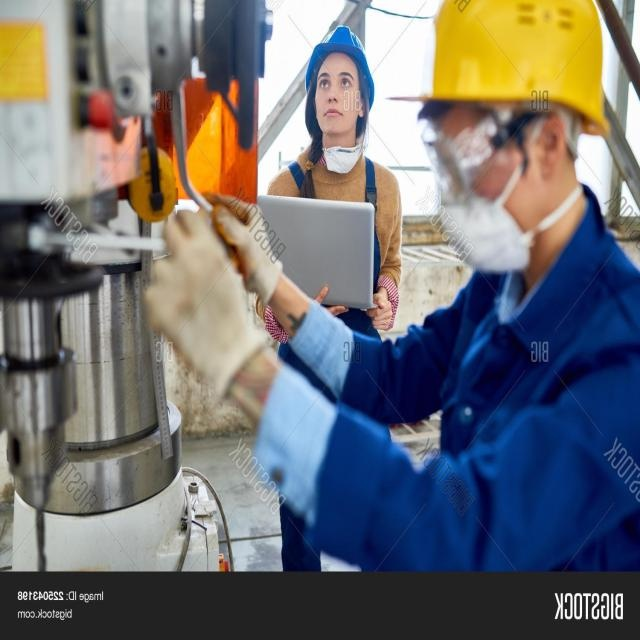Con_Casco: (305, 28, 376, 147)
